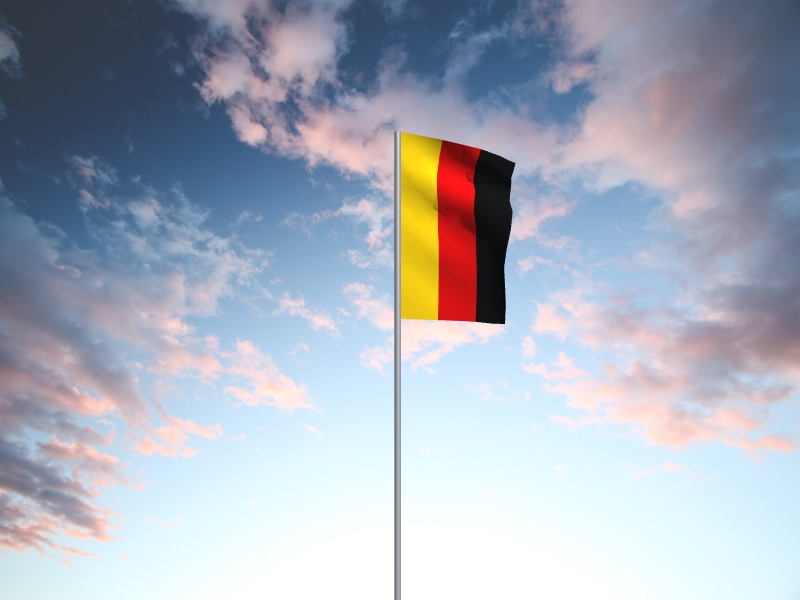de: (401, 132, 517, 326)
